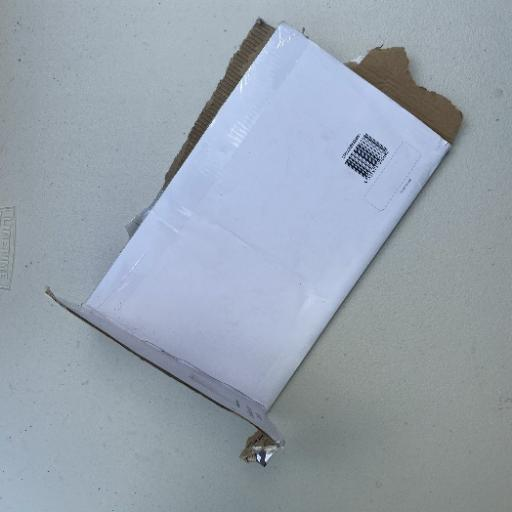Cardboard: (45, 19, 463, 460)
